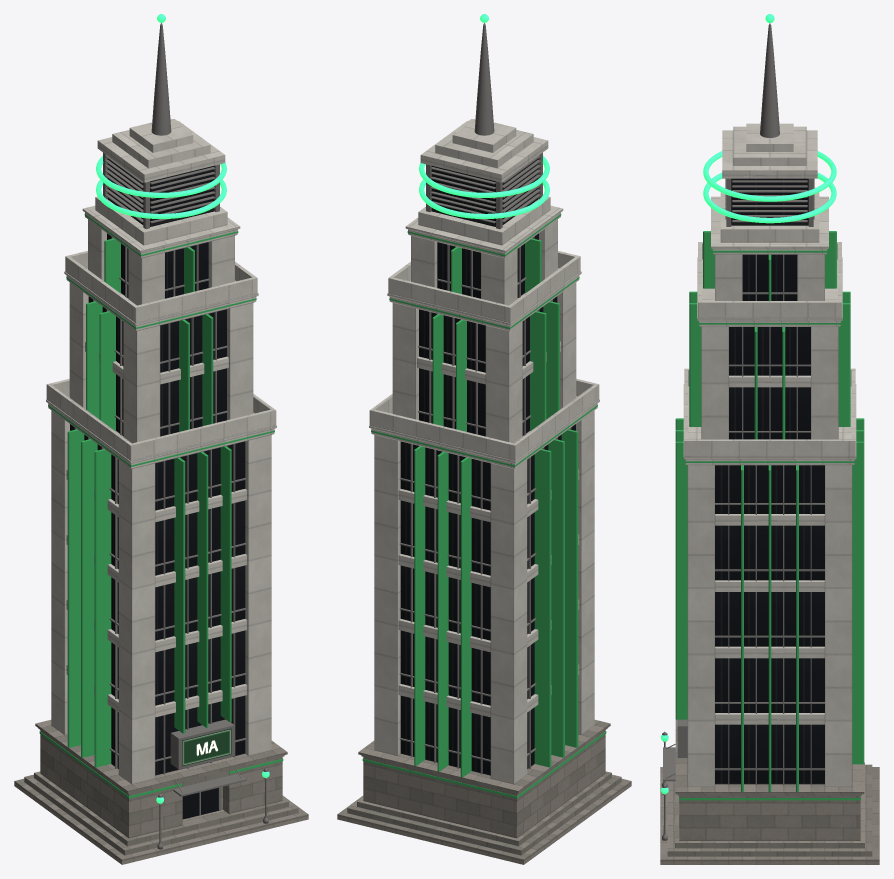
The model's file is s25-mypet-ai.glb.
3 renders of one model, left to right at view 1: azimuth 30°, elevation 25°; view 2: azimuth 150°, elevation 25°; view 3: azimuth 270°, elevation 25°, orthographic.
Parts seen in each view (by area): view 1: Landmark · MyPet.AI (Series 25); view 2: Landmark · MyPet.AI (Series 25); view 3: Landmark · MyPet.AI (Series 25).
Boxes of the visible parts, x1,y1,x2,y2 form: Landmark · MyPet.AI (Series 25): (14, 14, 308, 864); Landmark · MyPet.AI (Series 25): (337, 14, 631, 864); Landmark · MyPet.AI (Series 25): (660, 14, 879, 864).
Bounding box in the file's own units: 12 × 48.5 × 12.
7 materials, 4 textured.
